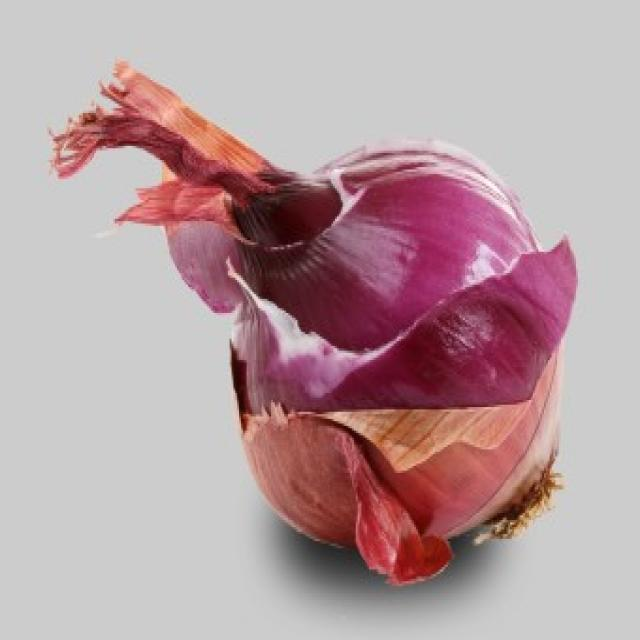Onion: (53, 64, 578, 586)
